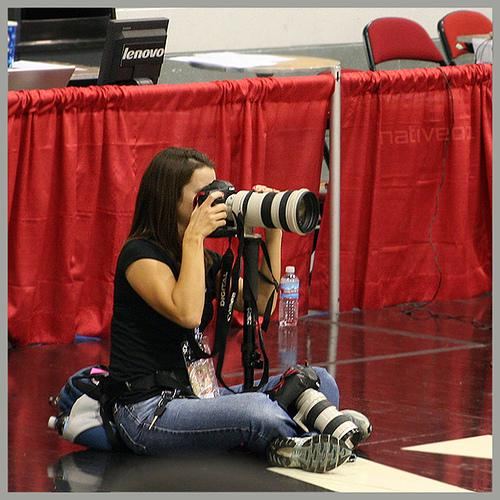person: (108, 147, 371, 478)
